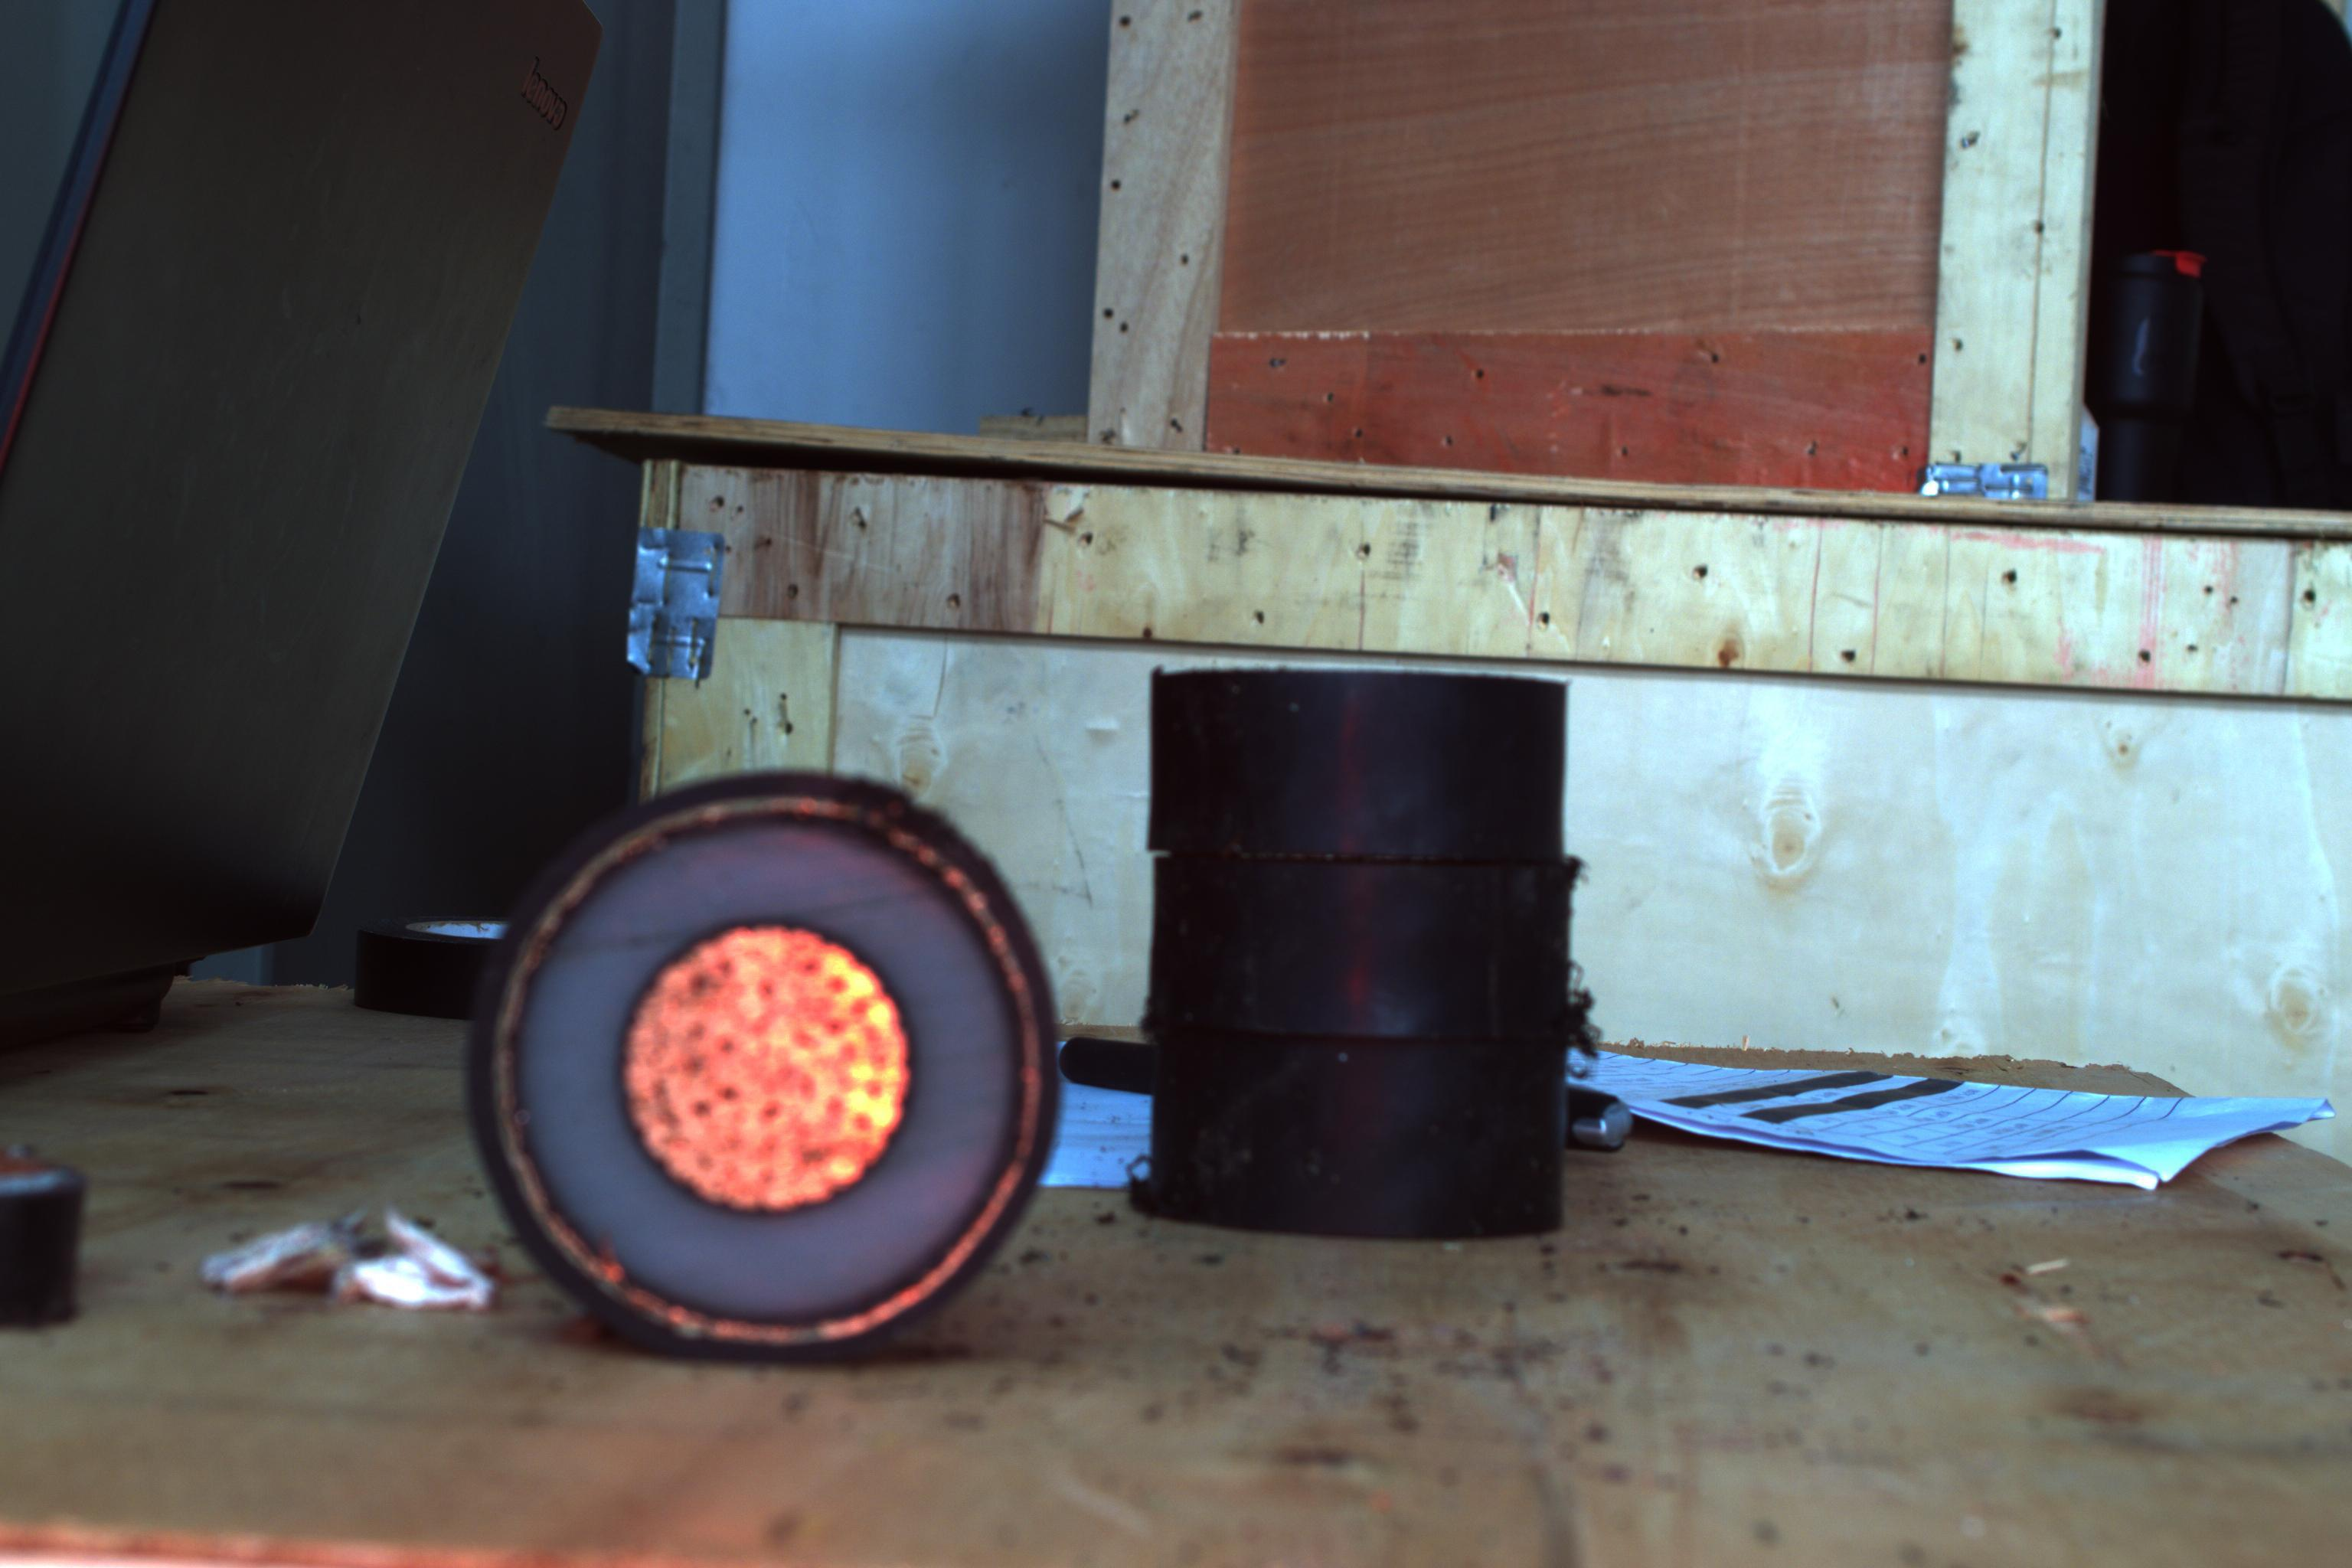YJV_26_35kV_1x630: (486, 786, 1066, 1353)
